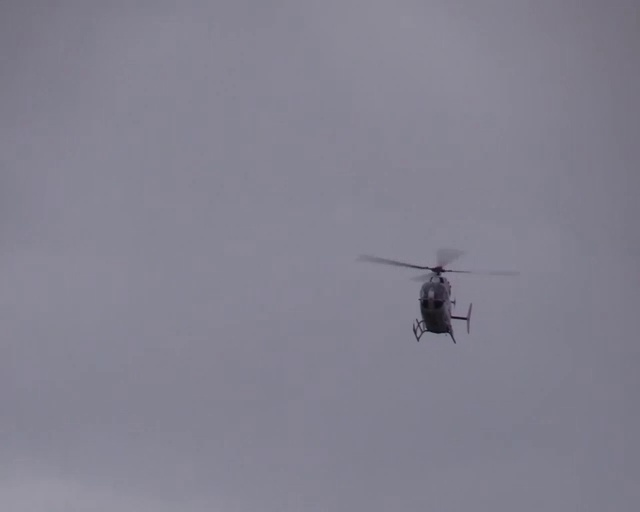HELICOPTER: (354, 248, 521, 344)
